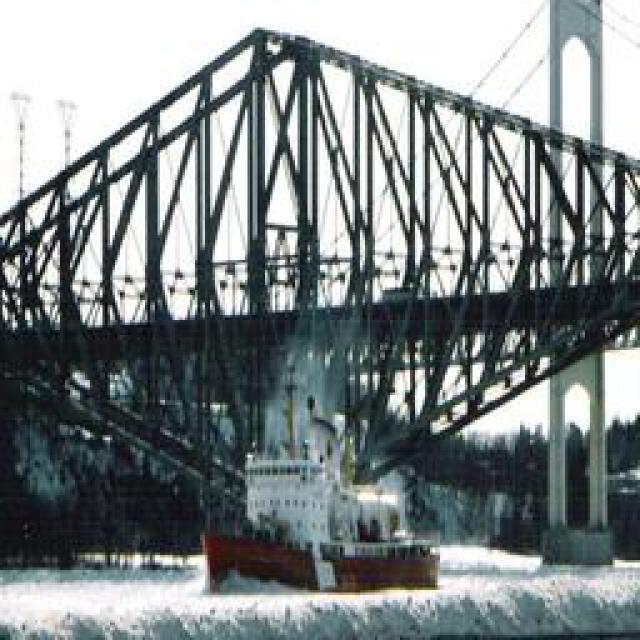Ship: (197, 429, 445, 594)
